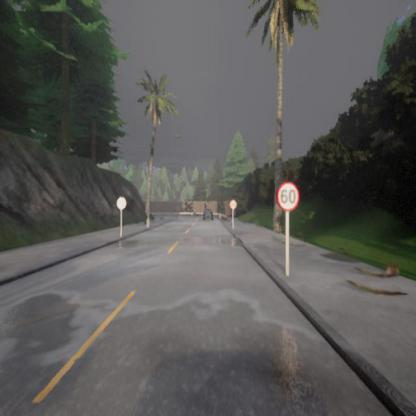traffic_sign_60: (276, 180, 300, 211)
